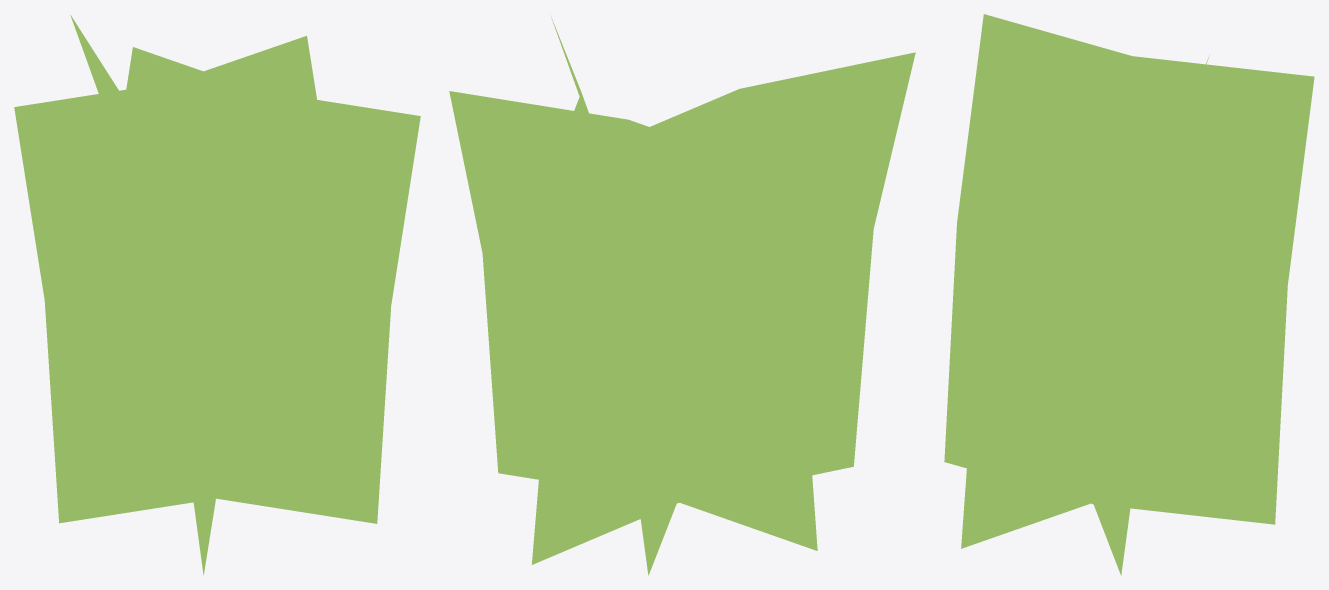
Rendered from GrassPlanes_a_TwoS_08.fbx.
The picture shows the model from 3 angles, left to right: view 1: azimuth 30°, elevation 25°; view 2: azimuth 150°, elevation 25°; view 3: azimuth 270°, elevation 25°; orthographic projection. The views are drawn at different scales.
Parts seen in each view (by area): view 1: GrassPlanes_a_TwoS_08; view 2: GrassPlanes_a_TwoS_08; view 3: GrassPlanes_a_TwoS_08.
Boxes of the visible parts, x1,y1,x2,y2 form: GrassPlanes_a_TwoS_08: (14, 15, 420, 574); GrassPlanes_a_TwoS_08: (449, 16, 915, 575); GrassPlanes_a_TwoS_08: (944, 14, 1314, 575).
Bounding box in the file's own units: 0.5523 × 0.672 × 0.5486.
